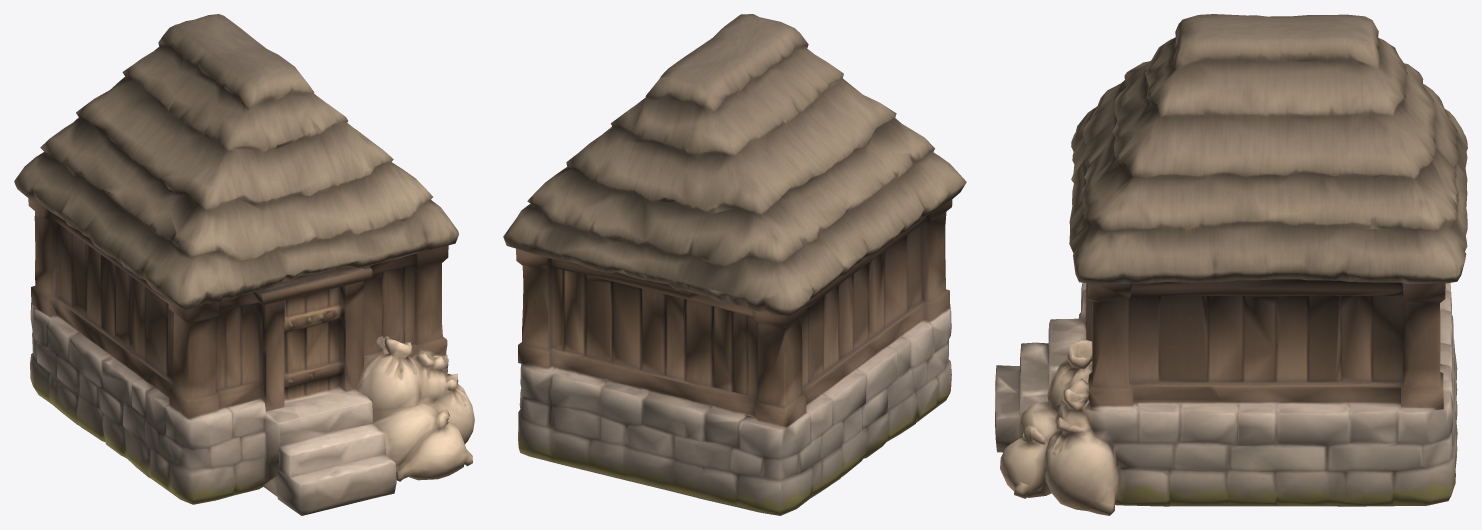
Rendered from granary.glb.
The picture shows the model from 3 angles, left to right: view 1: azimuth 30°, elevation 25°; view 2: azimuth 150°, elevation 25°; view 3: azimuth 270°, elevation 25°; orthographic projection. The views are drawn at different scales.
Parts seen in each view (by area): view 1: geometry_0.001; view 2: geometry_0.001; view 3: geometry_0.001.
Boxes of the visible parts, left/top/right/bottom form: geometry_0.001: left=14, top=14, right=474, bottom=515; geometry_0.001: left=503, top=14, right=966, bottom=515; geometry_0.001: left=995, top=14, right=1467, bottom=515.
Size of the model in its own units: 1.63 by 1.92 by 2.
Materials: 1 (1 with a texture image).
